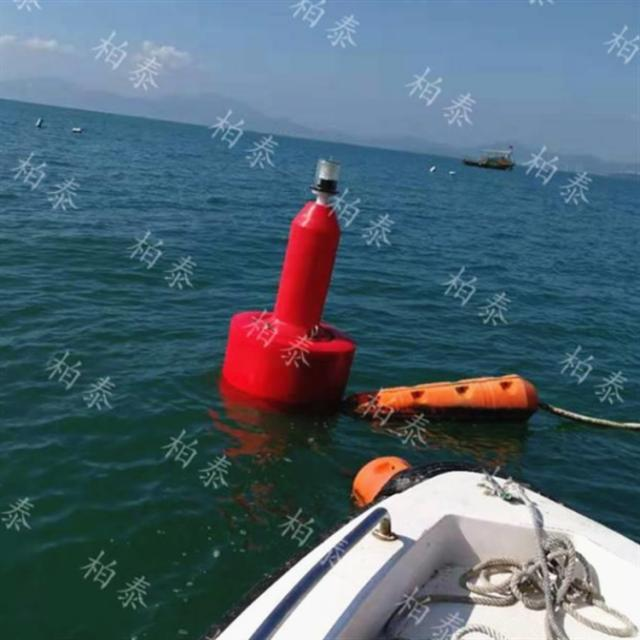buoy: (220, 156, 362, 412)
